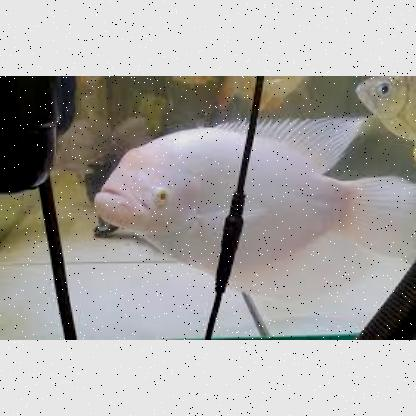gurame: (92, 122, 408, 272)
